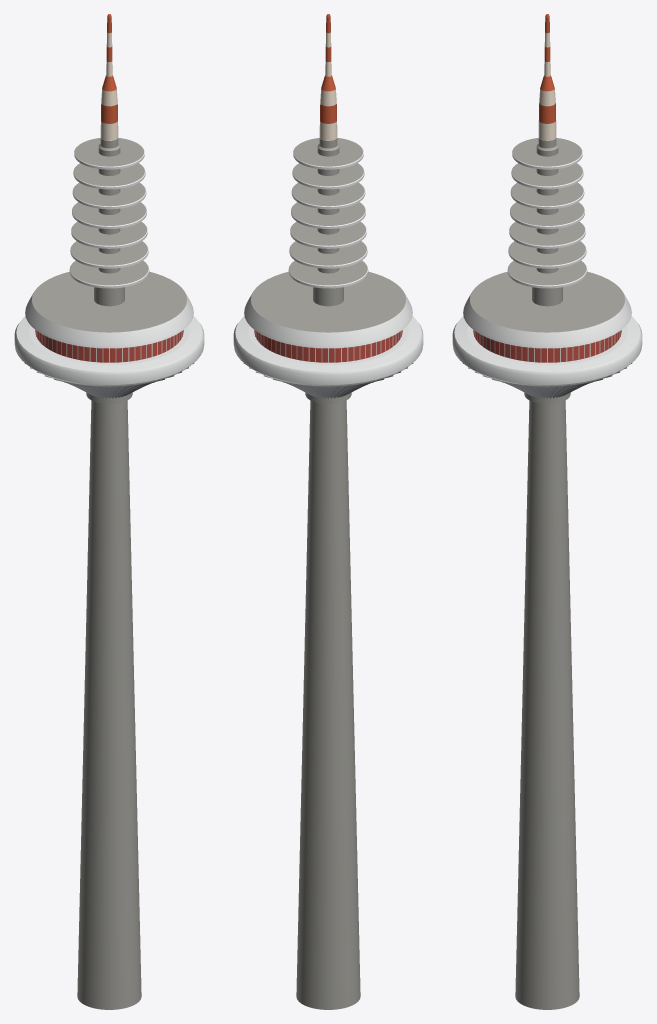
The model's file is frankfurt-europaturm.detail.glb.
The picture shows the model from 3 angles, left to right: view 1: azimuth 30°, elevation 25°; view 2: azimuth 150°, elevation 25°; view 3: azimuth 270°, elevation 25°; orthographic projection.
Visible parts, largest first — view 1: Europaturm; view 2: Europaturm; view 3: Europaturm.
Part boxes in pixels (<box>): Europaturm: <box>14,14,204,1009</box>; Europaturm: <box>233,14,423,1009</box>; Europaturm: <box>452,14,642,1009</box>.
Size of the model in its own units: 59.2 by 338 by 59.2.
